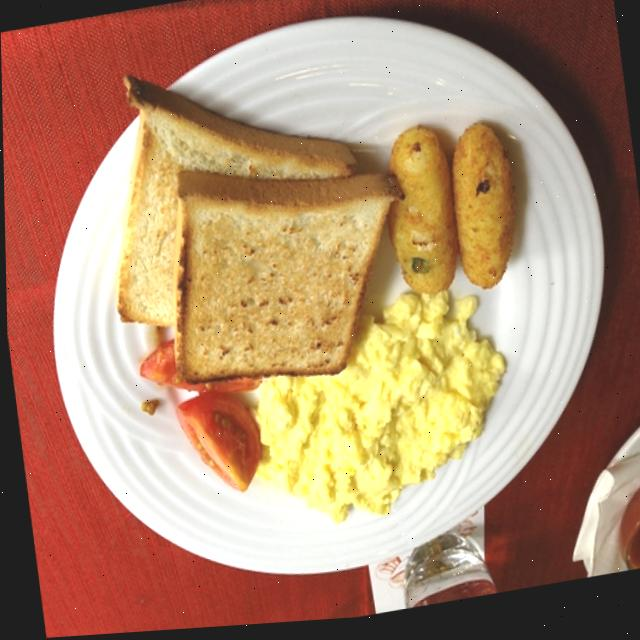鸡蛋料理: (49, 4, 598, 598)
